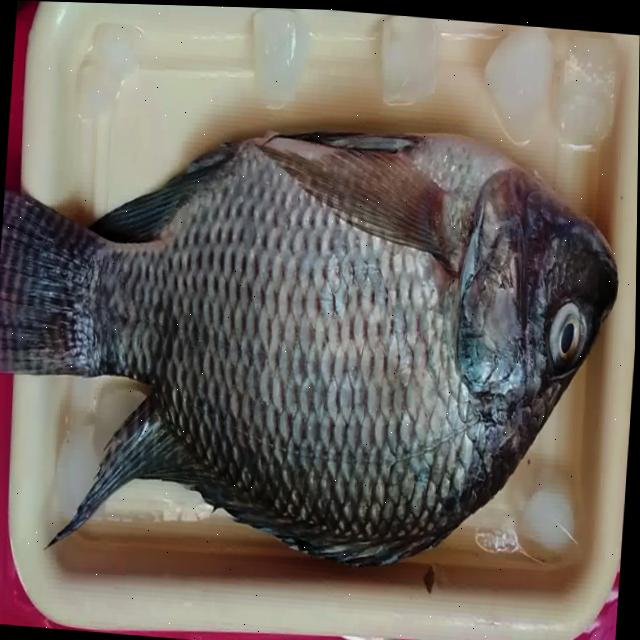Fresh: (192, 130, 539, 556), (533, 283, 593, 386)
